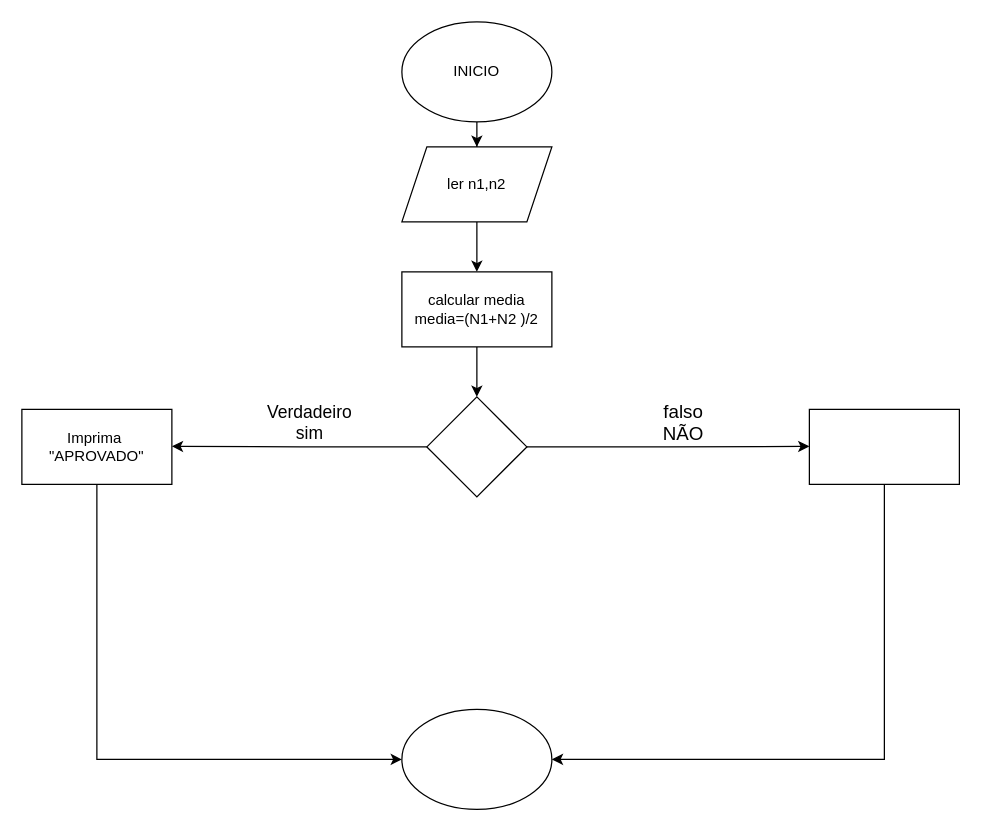
Image size: 981x831. Some labels were removed from this diagram. Each missing label, with the centre of its shape:
"FIM" goes at (476,758).
"MEDIA maior que 6? media > 6" goes at (476,446).
